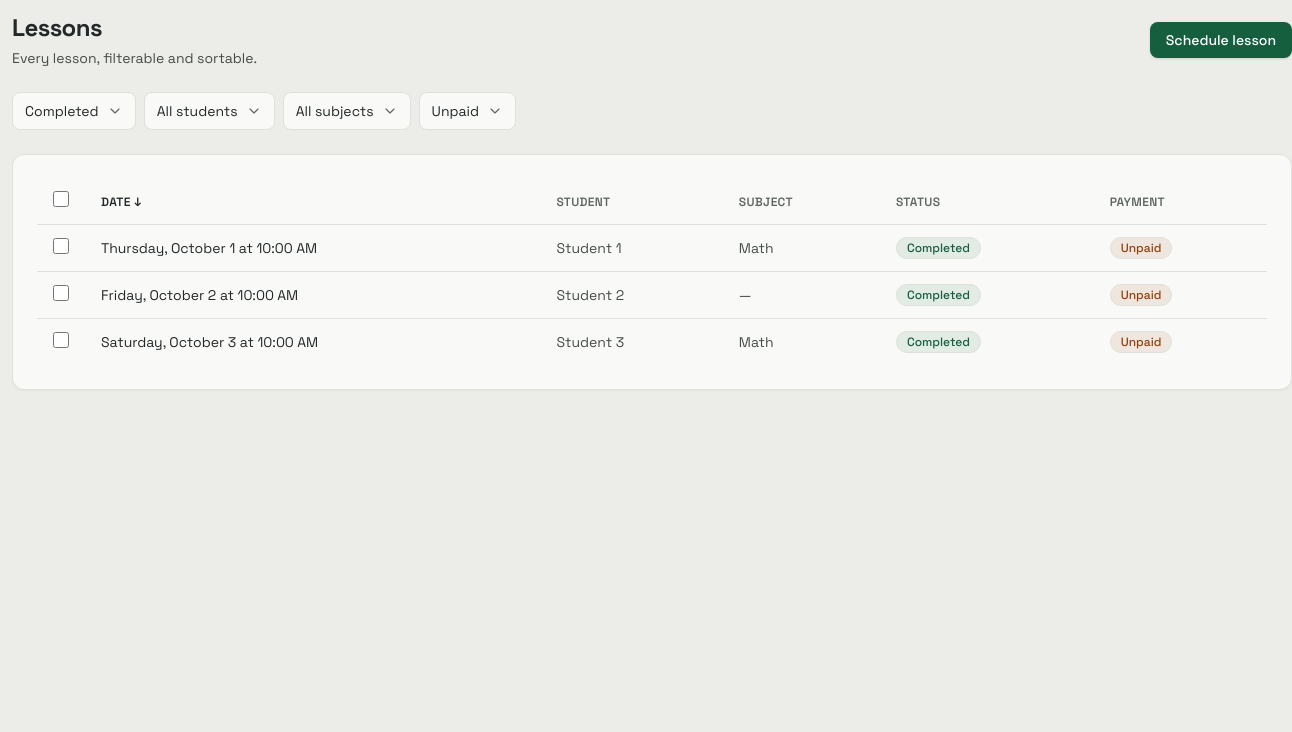
Test: LessonsListView selection › selects every row from the header checkbox and clears it
Click the checkbox named "Select all visible lessons".
click(61, 199)  # box [53, 191, 69, 207]
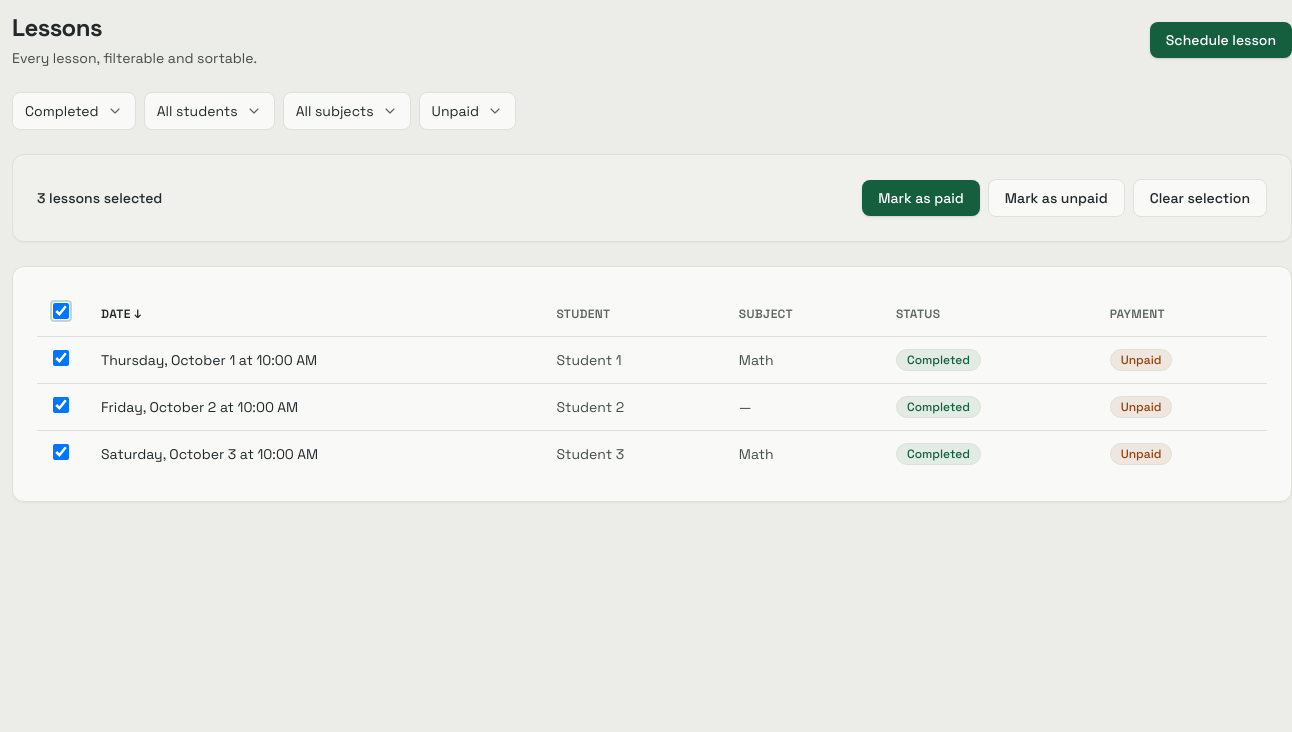
Expected: the text "3 lessons selected" is shown, [37, 189, 162, 207]
Click the button "Clear selection".
click(1200, 198)  # box [1133, 179, 1267, 217]
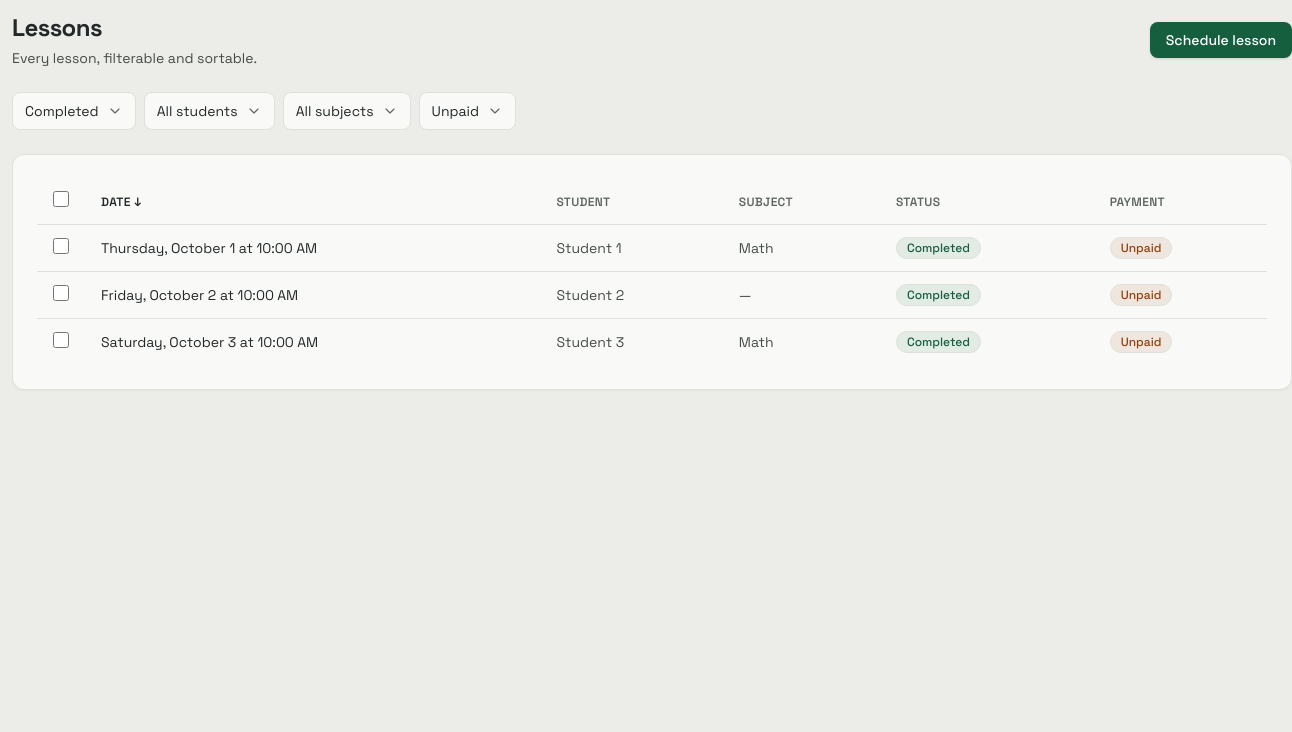
Expected: the text "3 lessons selected" is gone
